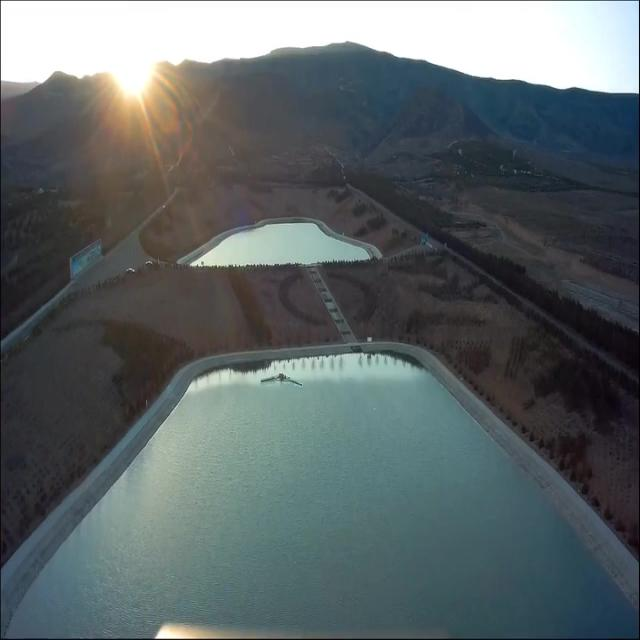iha: (260, 372, 303, 389)
